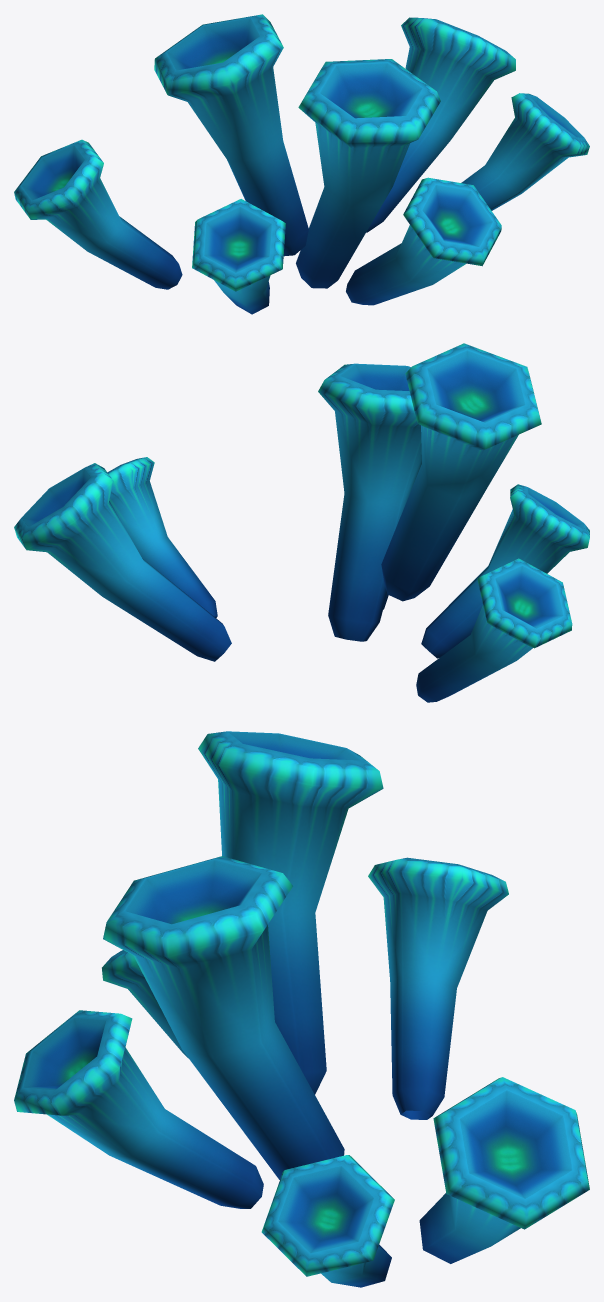
Rendered from Coral_14b.FBX.
The picture shows the model from 3 angles, top to bottom: view 1: azimuth 30°, elevation 25°; view 2: azimuth 150°, elevation 25°; view 3: azimuth 270°, elevation 25°; orthographic projection. The views are drawn at different scales.
Visible parts, largest first — view 1: Coral_14b; view 2: Coral_14b; view 3: Coral_14b.
Part boxes in pixels (x1=…): Coral_14b: x1=14, y1=14, x2=589, y2=314; Coral_14b: x1=14, y1=343, x2=589, y2=702; Coral_14b: x1=14, y1=731, x2=589, y2=1287.
Size of the model in its own units: 79.84 by 43.14 by 56.31.
